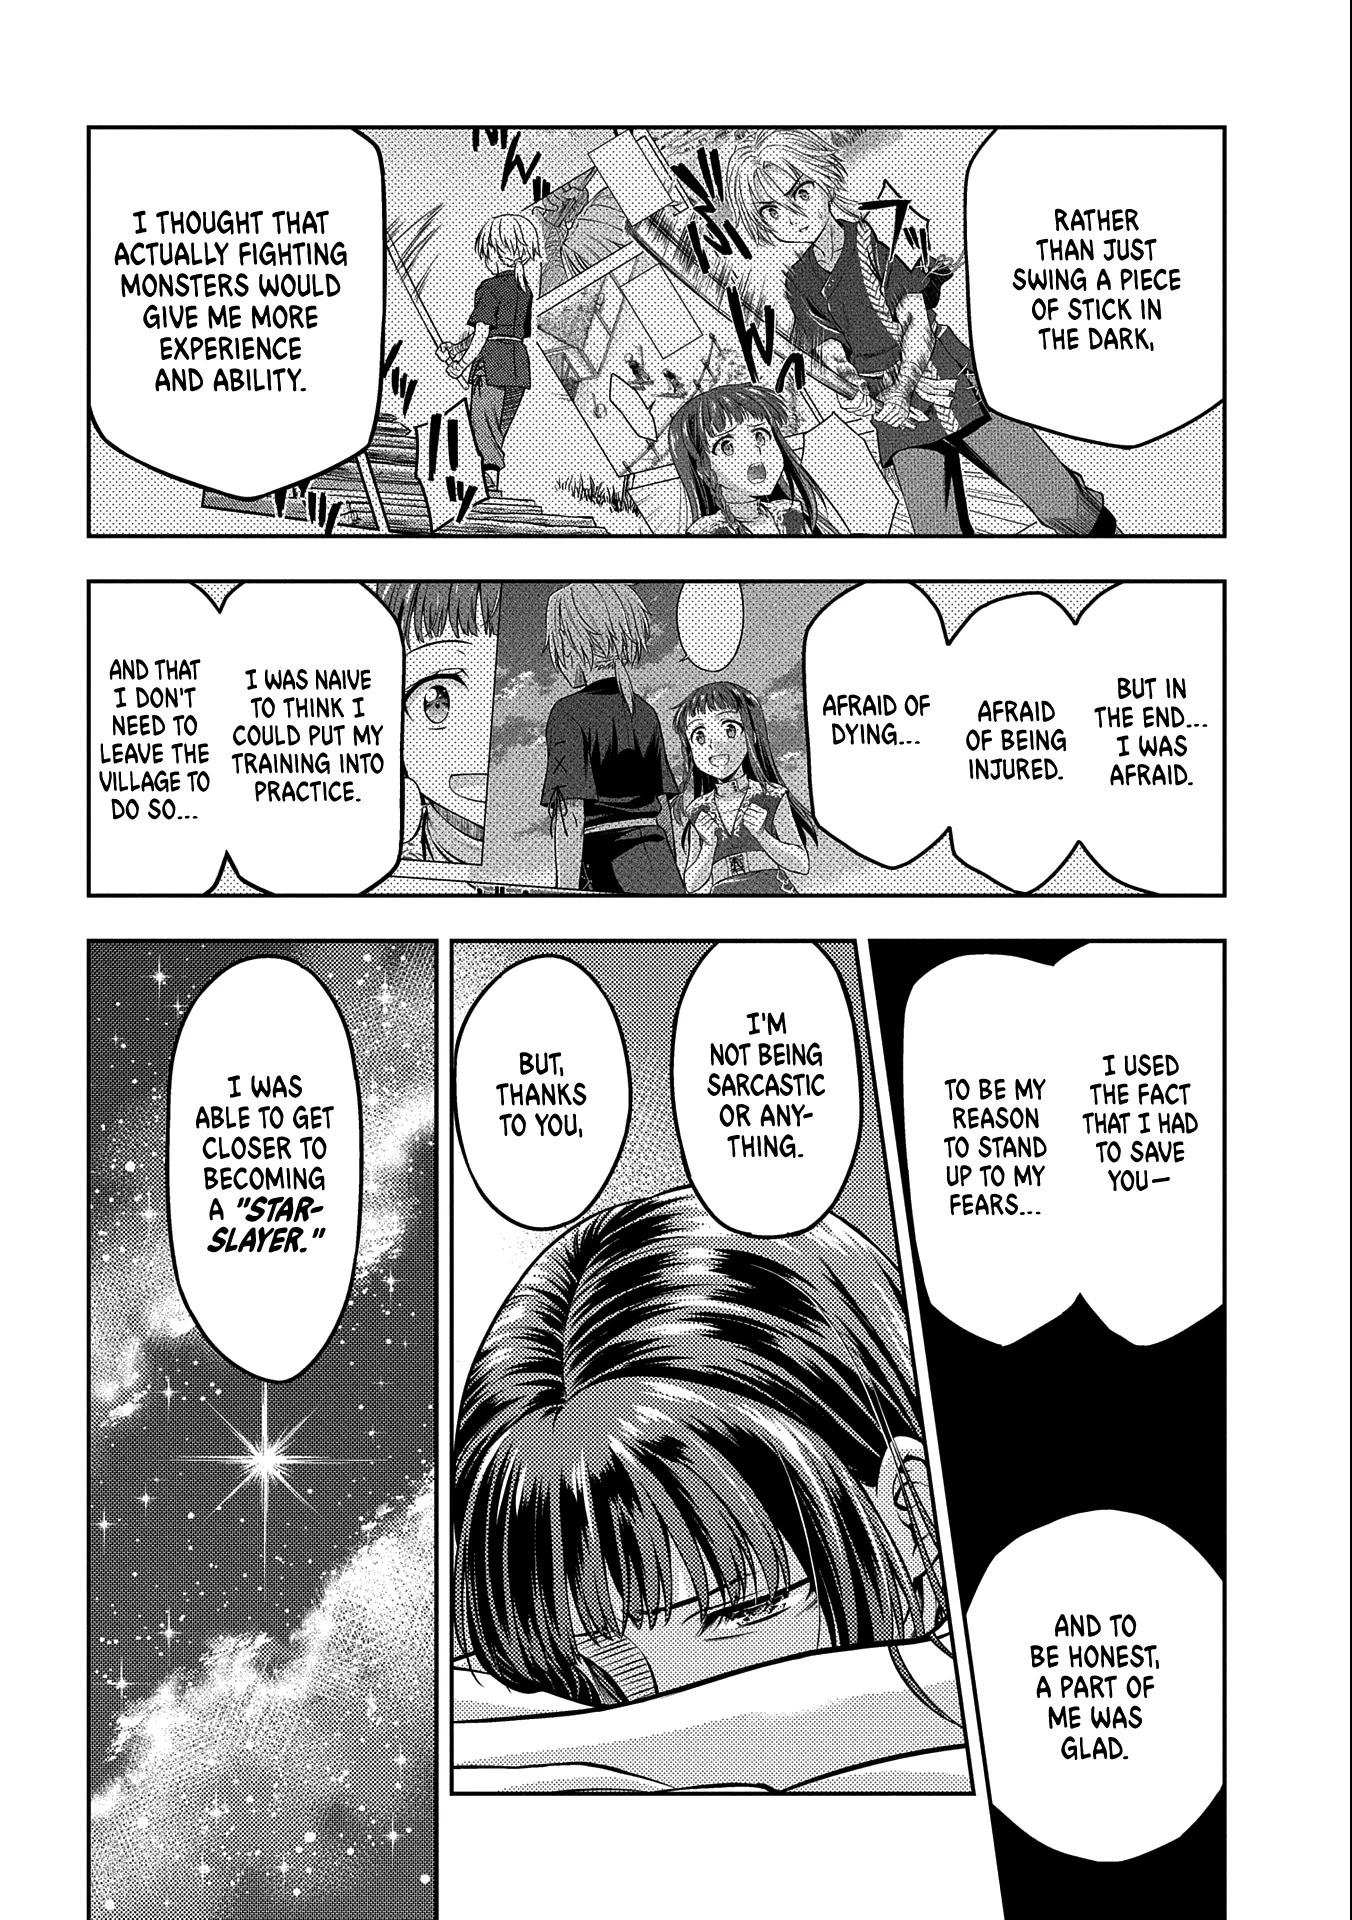Bubble: (80, 117, 389, 503), (958, 1503, 1232, 1870), (958, 117, 1235, 454), (164, 950, 369, 1386), (1065, 937, 1231, 1351), (898, 950, 1067, 1348), (669, 929, 869, 1240), (224, 575, 411, 900), (448, 950, 636, 1232), (80, 569, 233, 901), (1084, 572, 1231, 901), (799, 572, 947, 874), (947, 590, 1081, 897)
